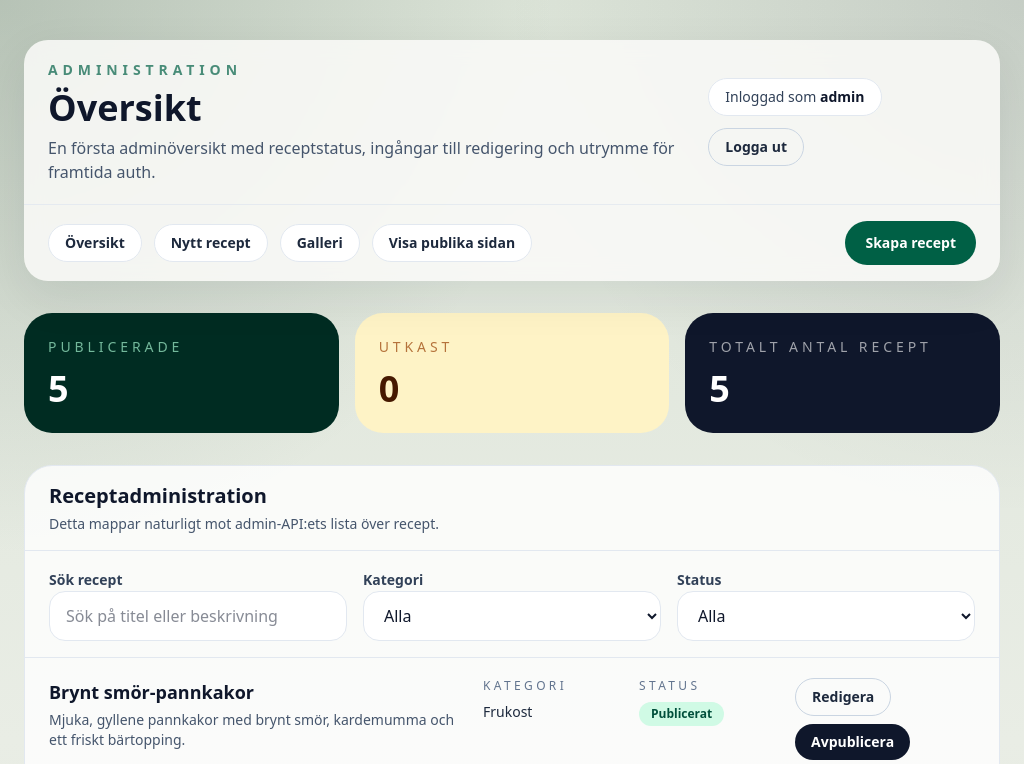
Test: AdminDashboardPage › toggles recipe publish state and shows success feedback
What coordinates should you click on to do the following:
click the button "Avpublicera"
I would click on:
 (853, 742)
Its box is [795,724,910,760].
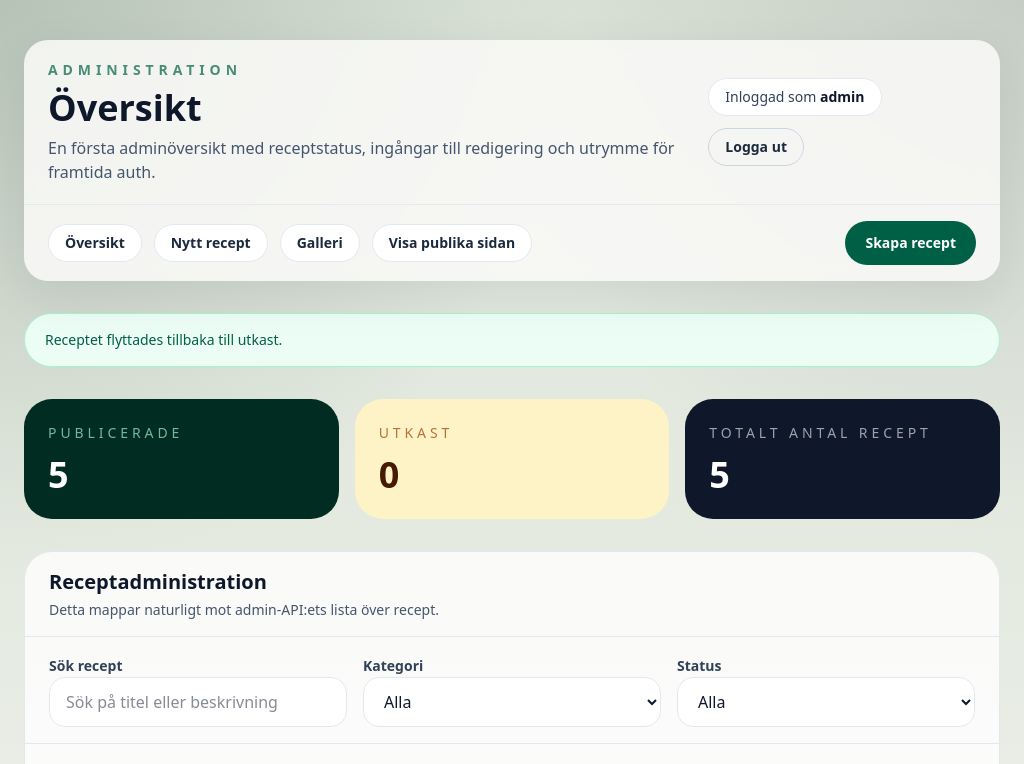
Result: the text "Receptet flyttades tillbaka till utkast." is shown at [24,313,1000,367]
